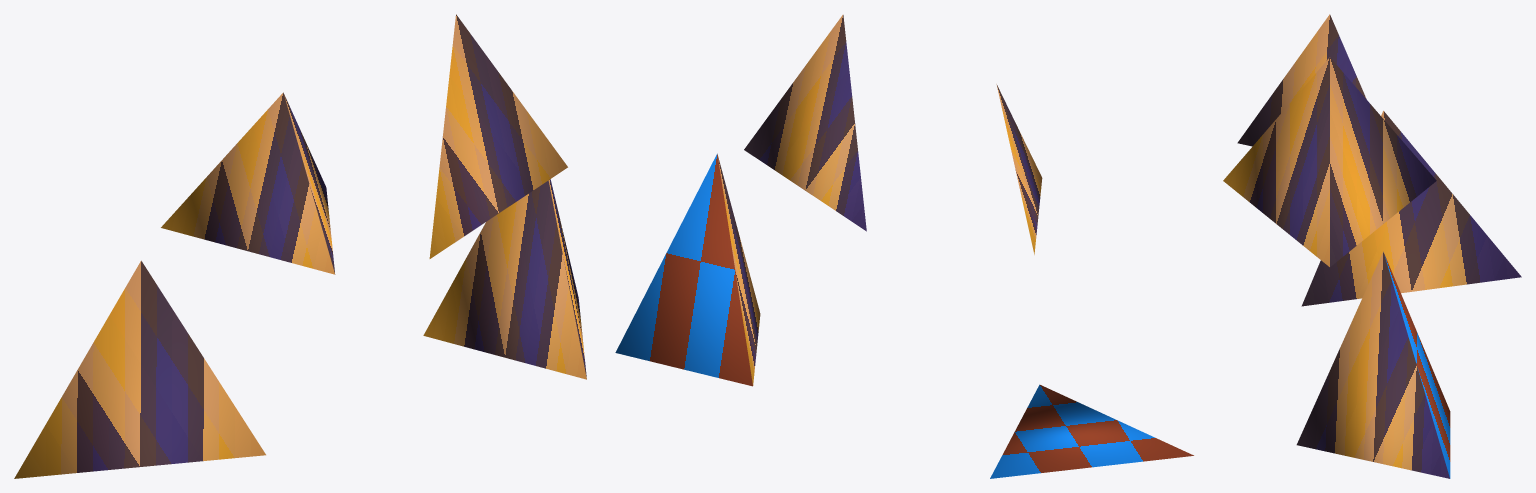
Rendered from textured_multi_mesh.gltf.
3 views of the same model, side by side, from view 1: azimuth 30°, elevation 25°; view 2: azimuth 150°, elevation 25°; view 3: azimuth 270°, elevation 25° (orthographic). The views are drawn at different scales.
Parts seen in each view (by area): view 1: Left tilted tetra, Right tall tetra, Roof left, Roof right; view 2: Right tall tetra, Roof right, Left tilted tetra, Roof left; view 3: Roof right, Right tall tetra, Left tilted tetra, Roof left.
Part boxes in pixels (x1,y1,x2,y2): Left tilted tetra: [14, 260, 265, 478]; Right tall tetra: [423, 179, 586, 379]; Roof left: [161, 92, 335, 274]; Roof right: [429, 14, 567, 258]; Right tall tetra: [615, 153, 760, 386]; Roof right: [744, 14, 866, 231]; Left tilted tetra: [990, 384, 1193, 478]; Roof left: [996, 84, 1042, 254]; Roof right: [1223, 57, 1436, 266]; Right tall tetra: [1296, 251, 1450, 478]; Left tilted tetra: [1301, 111, 1521, 306]; Roof left: [1237, 14, 1366, 146].
Bounding box in the file's own units: 3.53 × 2.1 × 1.68.
2 materials, 2 textured.
